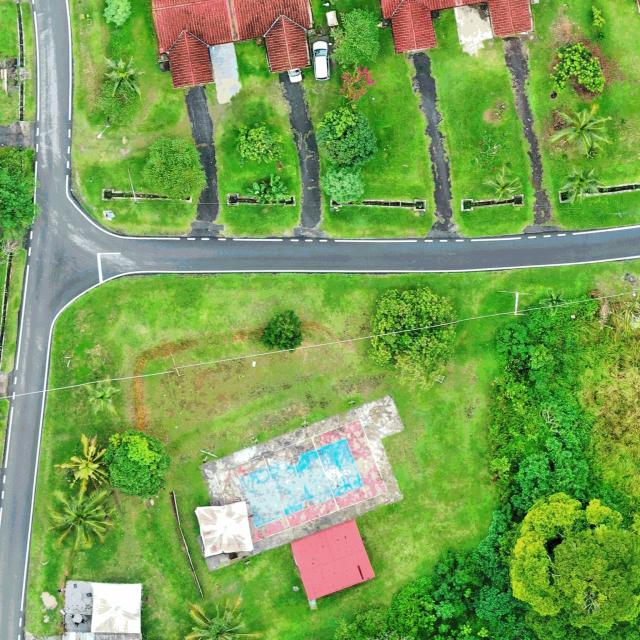Tree: (508, 493, 640, 638), (368, 286, 460, 392), (45, 480, 114, 550), (106, 428, 172, 499), (143, 135, 210, 201), (316, 103, 378, 165), (328, 5, 382, 68), (550, 103, 611, 155), (54, 434, 112, 488), (184, 594, 246, 640), (552, 41, 606, 93), (103, 56, 148, 100), (237, 121, 283, 164), (262, 308, 303, 352), (324, 164, 366, 206), (246, 172, 288, 206), (468, 133, 508, 168), (485, 166, 522, 203), (562, 166, 596, 198), (102, 0, 134, 27)
